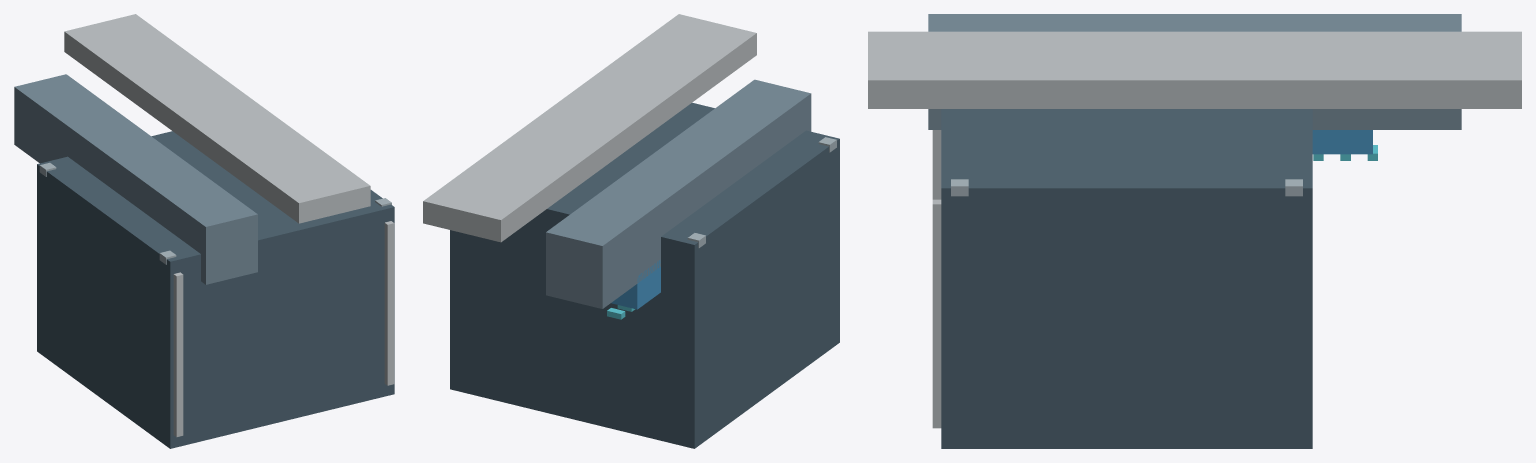
The model's file is 27_L73_PadGrooveInspectionScanner.glb.
3 views of the same model, side by side, from view 1: azimuth 30°, elevation 25°; view 2: azimuth 150°, elevation 25°; view 3: azimuth 270°, elevation 25° (orthographic). The views are drawn at different scales.
Visible parts, largest first — view 1: PadGrooveInspectionScanner_Node_0000, PadGrooveInspectionScanner_Node_0022, PadGrooveInspectionScanner_Node_0007, PadGrooveInspectionScanner_Node_0005, PadGrooveInspectionScanner_Node_0006; view 2: PadGrooveInspectionScanner_Node_0000, PadGrooveInspectionScanner_Node_0022, PadGrooveInspectionScanner_Node_0007, PadGrooveInspectionScanner_Node_0008; view 3: PadGrooveInspectionScanner_Node_0000, PadGrooveInspectionScanner_Node_0022, PadGrooveInspectionScanner_Node_0007, PadGrooveInspectionScanner_Node_0006, PadGrooveInspectionScanner_Node_0008, PadGrooveInspectionScanner_Node_0005.
Part boxes in pixels (x1,y1,x2,y2): PadGrooveInspectionScanner_Node_0000: (37, 131, 394, 448); PadGrooveInspectionScanner_Node_0022: (64, 14, 370, 223); PadGrooveInspectionScanner_Node_0007: (14, 74, 257, 284); PadGrooveInspectionScanner_Node_0005: (173, 272, 183, 437); PadGrooveInspectionScanner_Node_0006: (384, 221, 394, 385); PadGrooveInspectionScanner_Node_0000: (450, 102, 839, 448); PadGrooveInspectionScanner_Node_0022: (423, 14, 756, 242); PadGrooveInspectionScanner_Node_0007: (546, 79, 811, 308); PadGrooveInspectionScanner_Node_0008: (611, 260, 660, 309); PadGrooveInspectionScanner_Node_0000: (941, 109, 1312, 448); PadGrooveInspectionScanner_Node_0022: (868, 31, 1521, 108); PadGrooveInspectionScanner_Node_0007: (928, 14, 1461, 129); PadGrooveInspectionScanner_Node_0006: (932, 199, 941, 428); PadGrooveInspectionScanner_Node_0008: (1312, 130, 1372, 154); PadGrooveInspectionScanner_Node_0005: (932, 130, 941, 199).
Bounding box in the file's own units: 0.6944 × 0.705 × 1.25.
